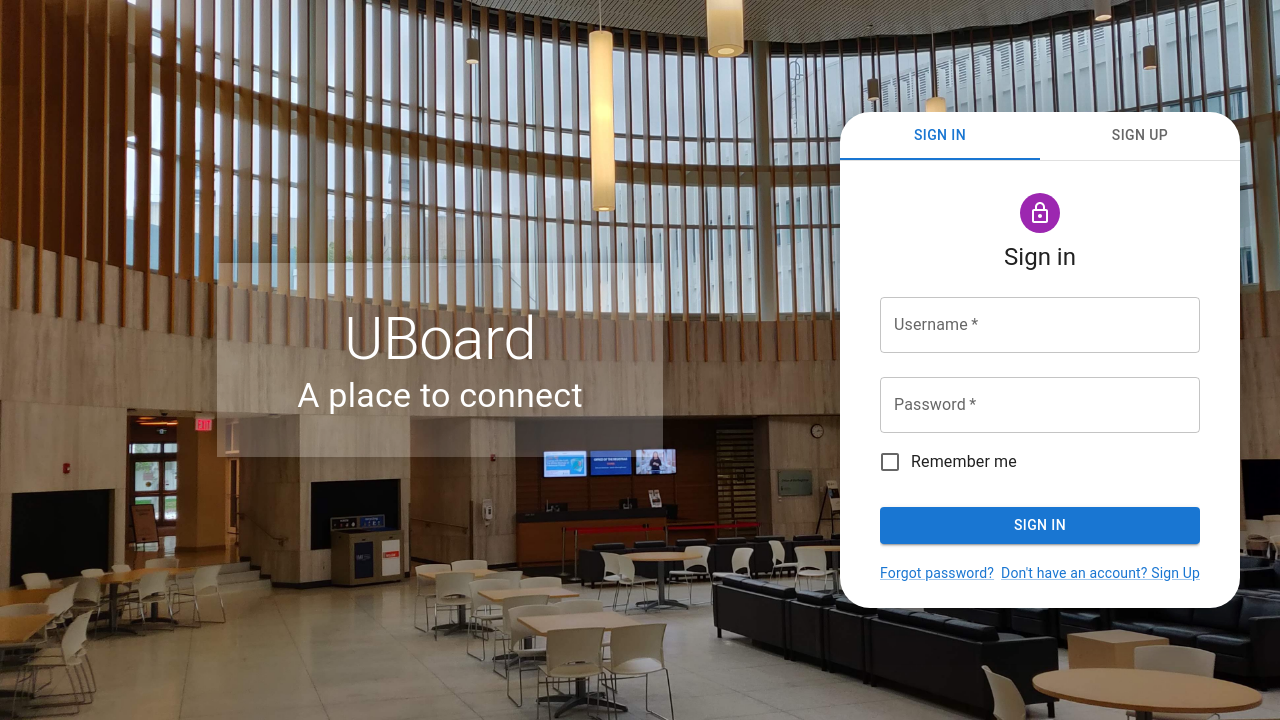
Test: test Auth Pages › should switch pages between SignIn and Sign up inside form button clicks
Expected: the element with test id "SignInTab" is shown, [880,185,1200,584]
# toggle to sign up from in-form button
Click the link with test id "CreateAccountButton" at x=1101, y=573, box [1001,565,1200,581]
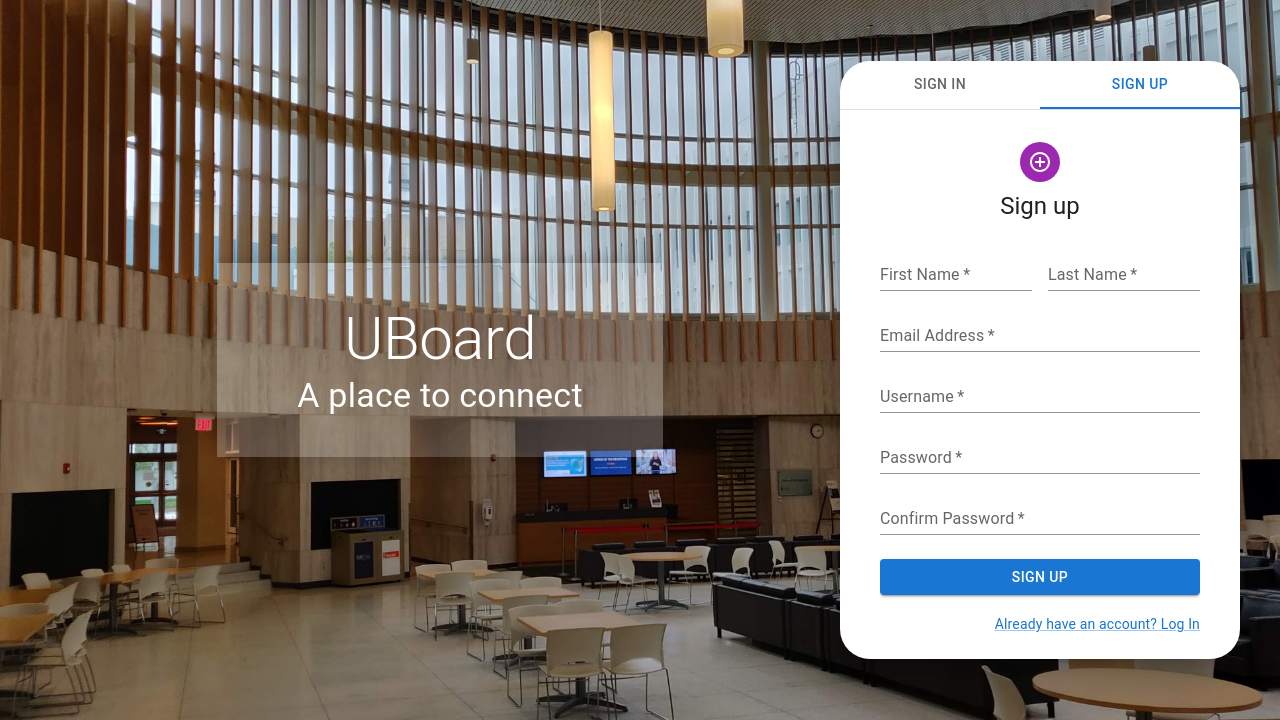
Result: the element with test id "SignUpTab" is shown at [880,134,1200,635]
# toggle to log in from in-form button
Click the link with test id "GoToSignIn" at x=1097, y=624, box [995,616,1200,632]
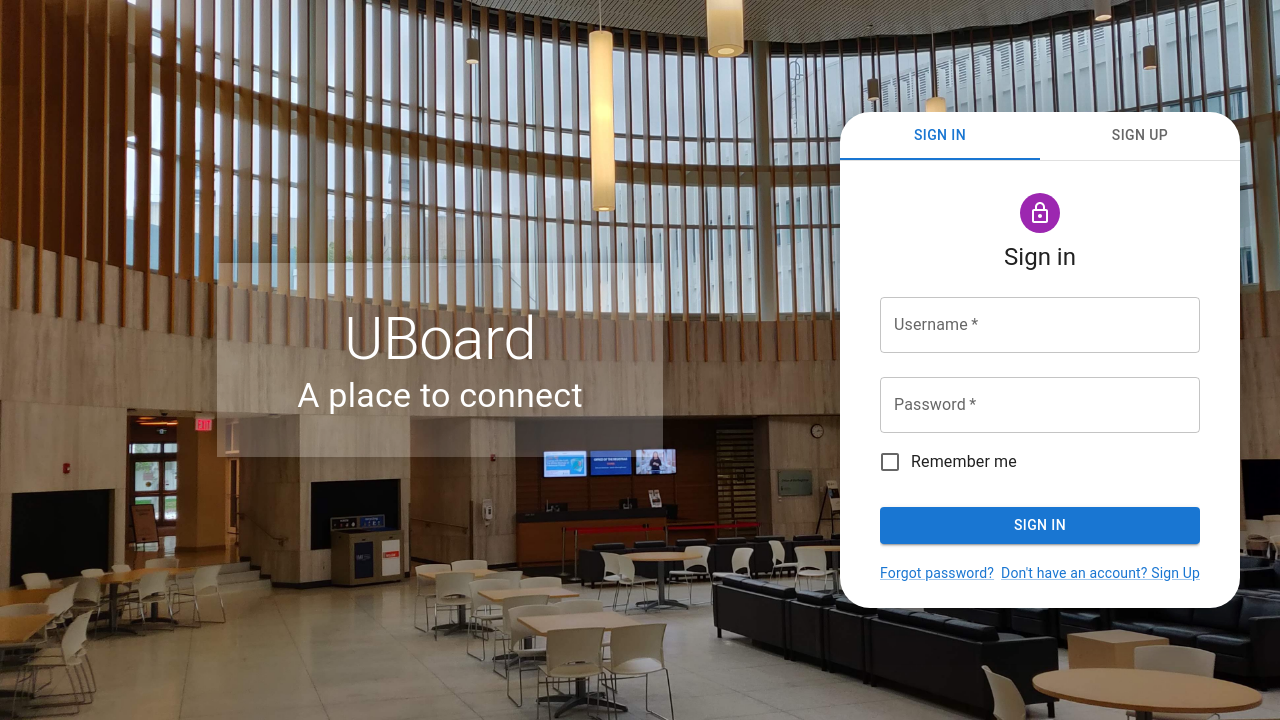
Result: the element with test id "SignInTab" is shown at [880,185,1200,584]
